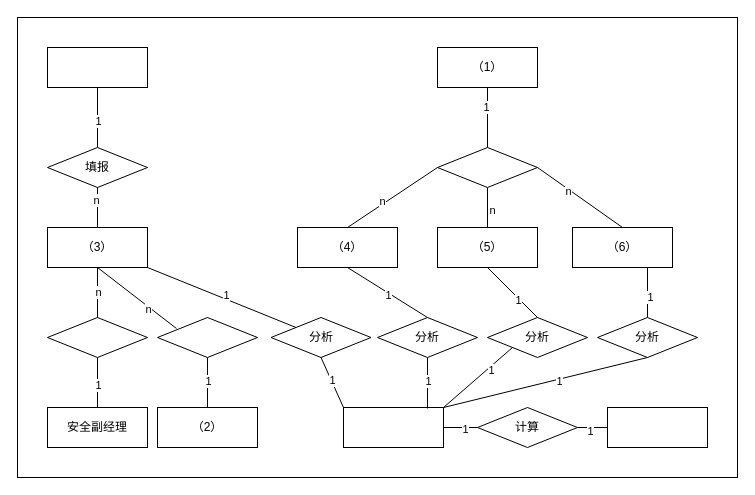
The diagram is 755 pixels wide and 495 high, and some of its shapes have lost their labels. Here are the shapes that lost their labels. From the top down, the centre of each, then its label:
At (97,67): "安全员".
At (487,167): "创建".
At (97,337): "审核".
At (207,337): "确认".
At (393,427): "指标预警分析".
At (657,427): "预警结果".
